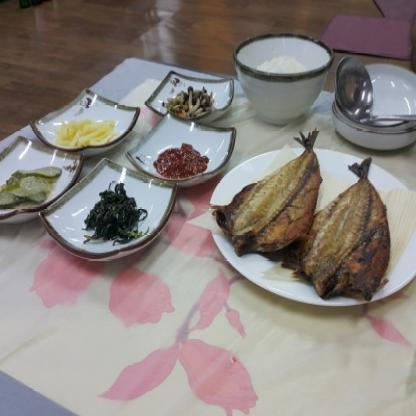Peixe: (210, 129, 397, 308)
